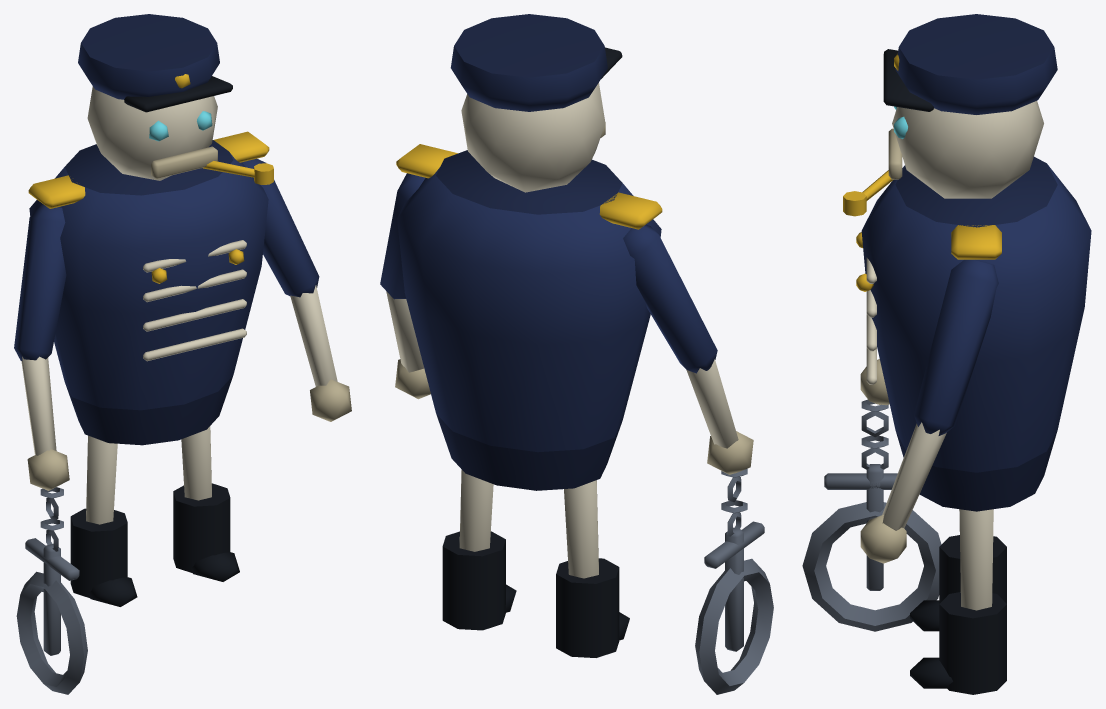
File: e_untote_bootsmann.glb
3 renders of one model, left to right at view 1: azimuth 30°, elevation 25°; view 2: azimuth 150°, elevation 25°; view 3: azimuth 270°, elevation 25°, orthographic. The views are drawn at different scales.
Parts seen in each view (by area): view 1: body; view 2: body; view 3: body.
Part boxes in pixels (box(x1,y1,x2,y2)): body: box(14, 14, 351, 694); body: box(380, 14, 773, 694); body: box(802, 14, 1091, 694).
Size of the model in its own units: 2.49 by 4.35 by 1.71.
